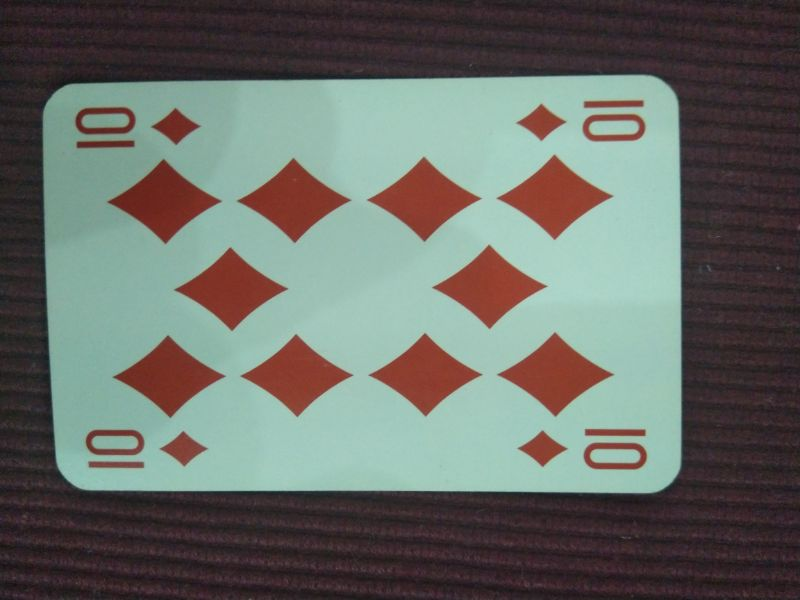Td: (512, 95, 654, 149), (66, 100, 207, 154), (513, 424, 651, 476), (80, 423, 210, 475)
